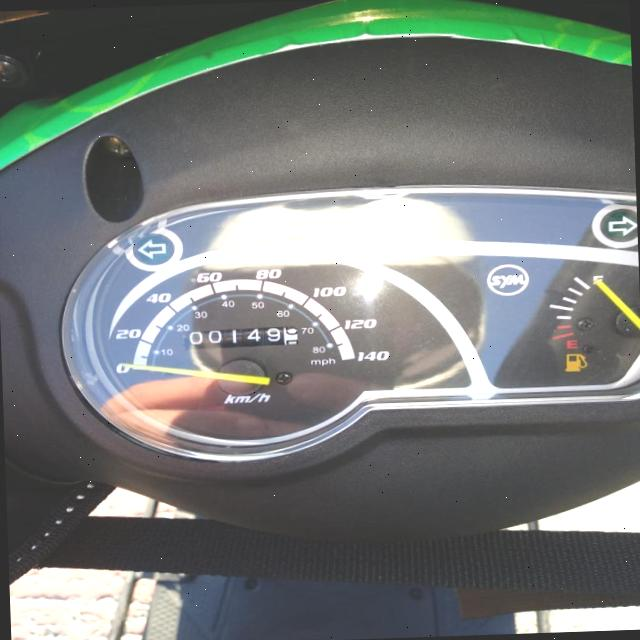odometer: (178, 324, 300, 350)
